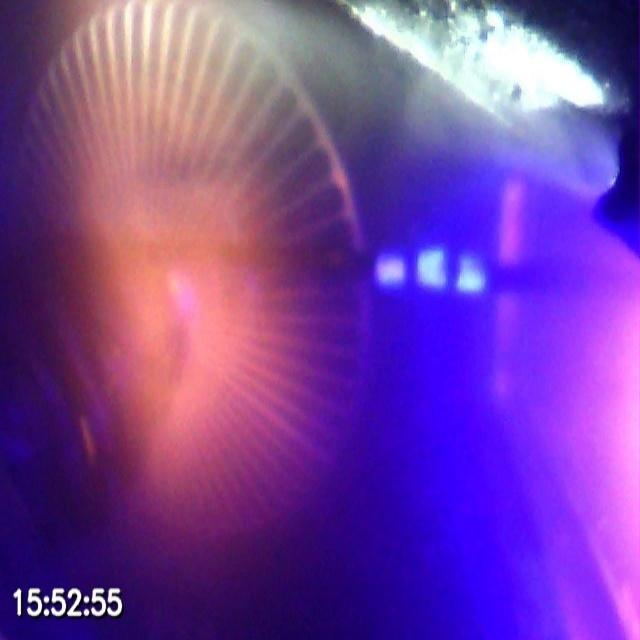white-dots: (372, 246, 488, 296)
